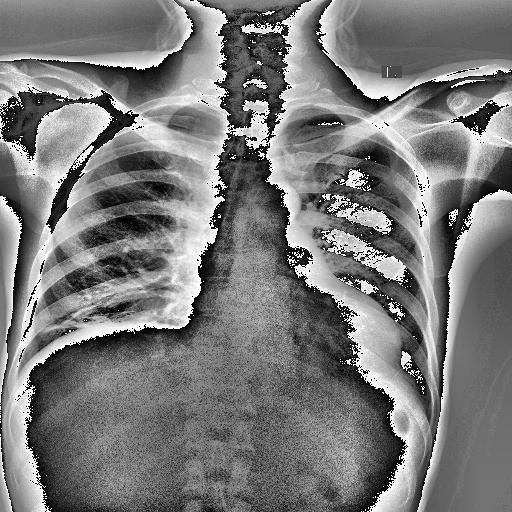13- Pulmonary fibrosis: (41, 286, 187, 336), (35, 298, 117, 336)
3- Cardiomegaly: (188, 284, 404, 369), (186, 292, 404, 362)
